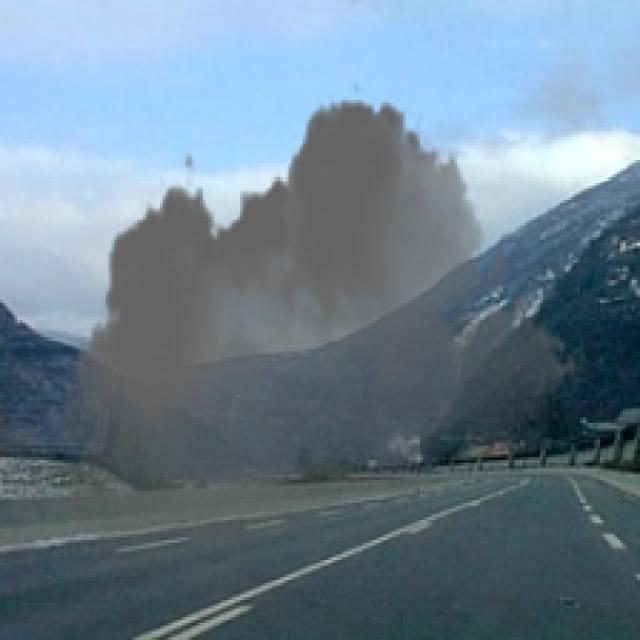Smoke: (63, 80, 580, 623)
